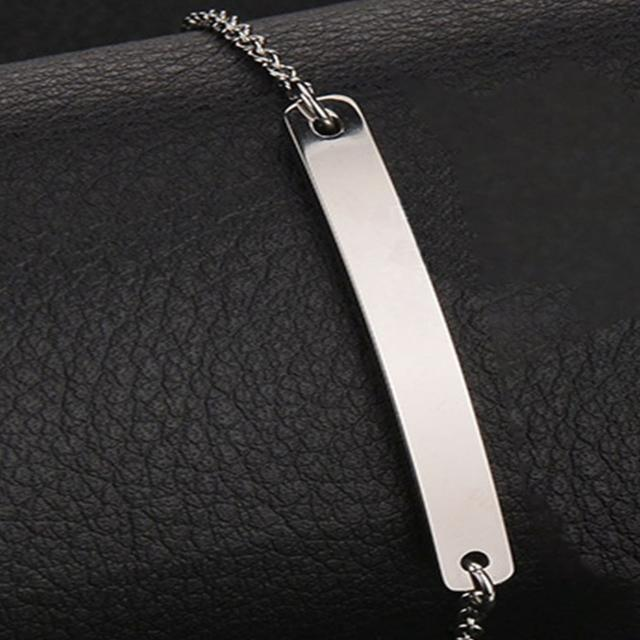bracelet: (131, 0, 627, 640)
